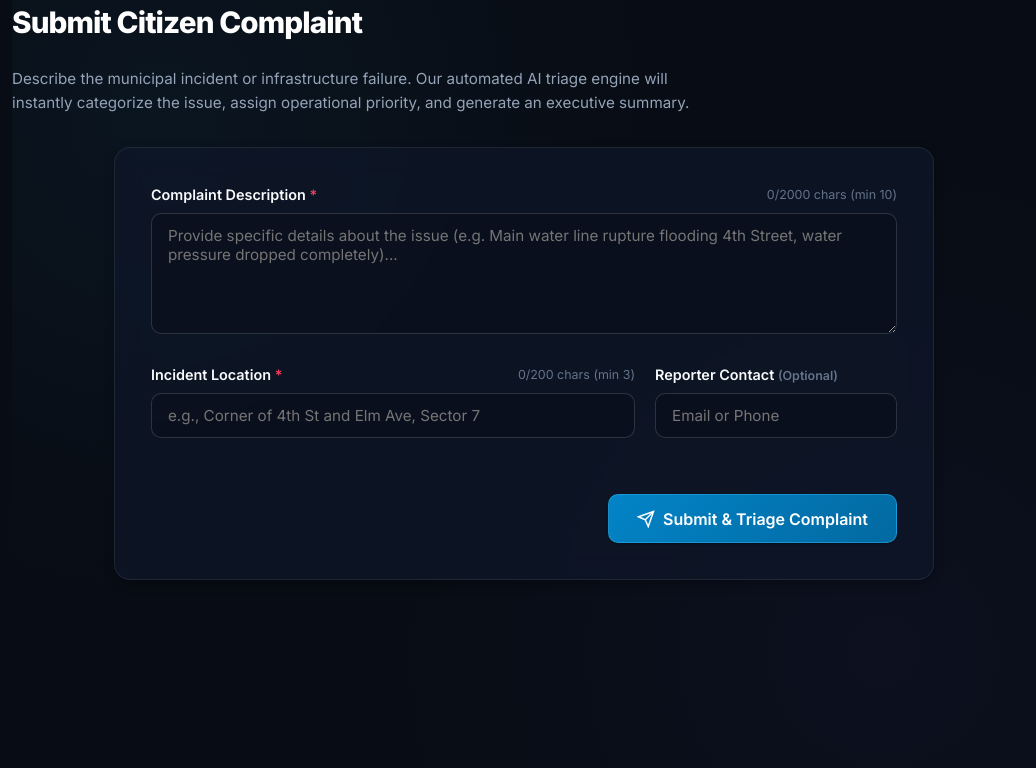
Test: SubmitPage Component › handles 429 Rate Limit with Retry-After header countdown
Replace the text in the text box labelled "Complaint Description *" with "A valid complaint text that exceeds ten chars" at (524, 274), box [151, 213, 897, 334]
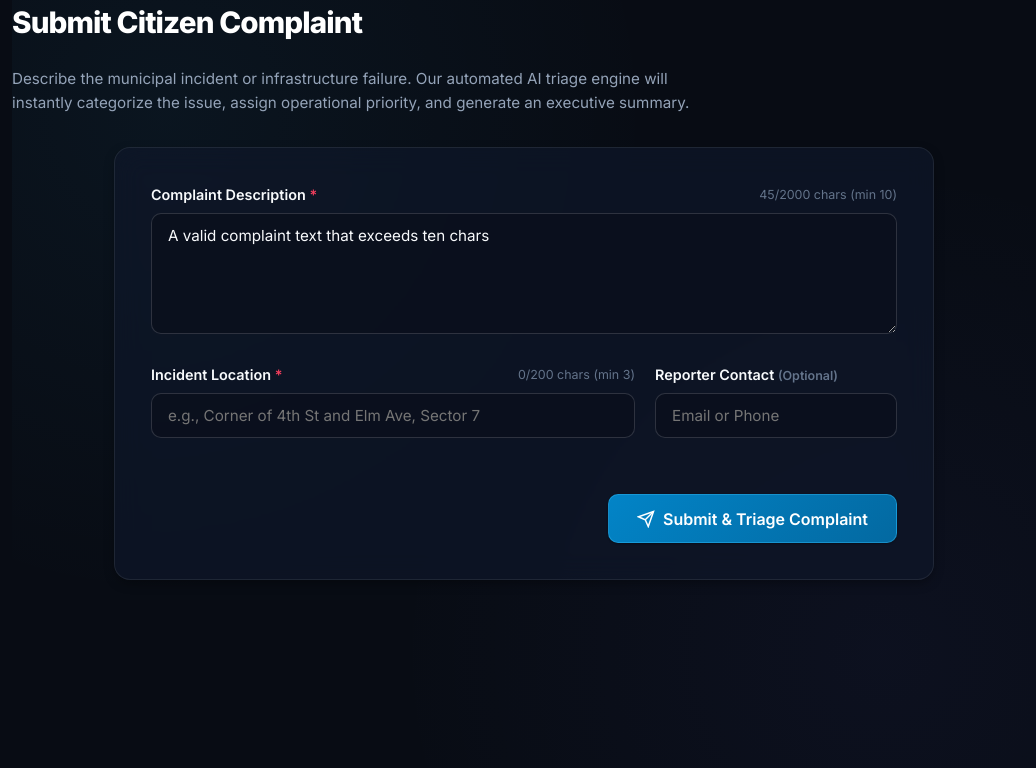
Type "Central Plaza" into the field labelled "Incident Location *" at (393, 416), box [151, 393, 635, 438]
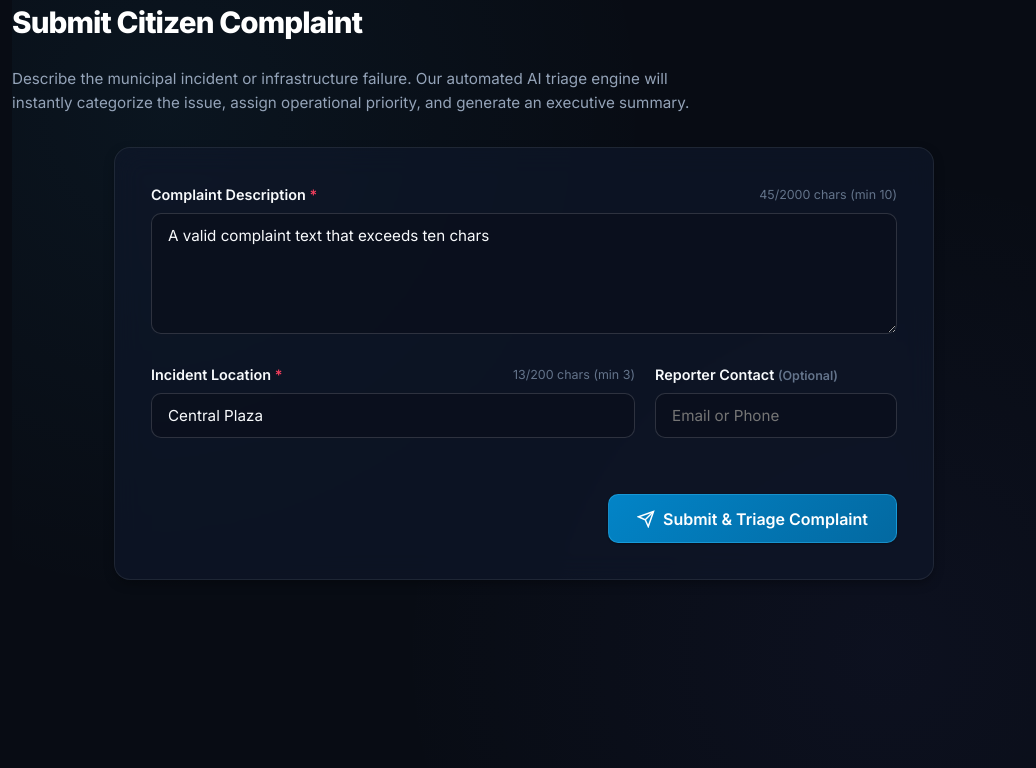
Click the button "Submit & Triage Complaint" at (752, 519), box [608, 494, 897, 543]
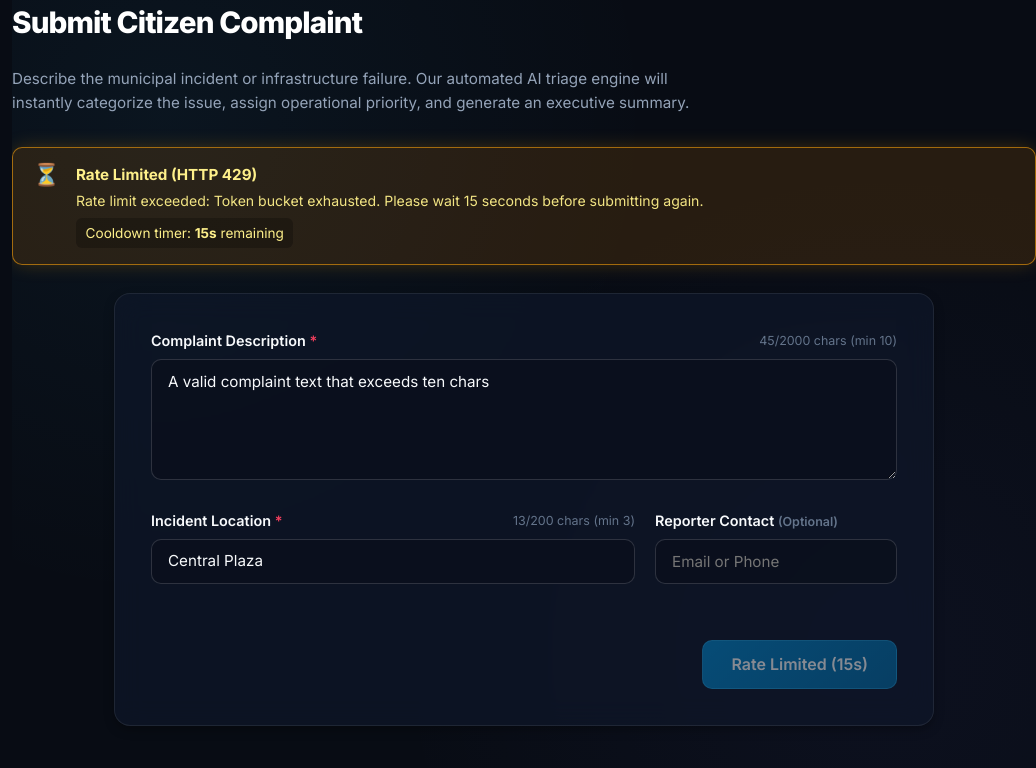
Result: the message is shown at [12, 147, 1035, 265]
Result: the heading "Rate Limited (HTTP 429)" is shown at [76, 165, 257, 184]
Result: the text "Rate limit exceeded: Token bucket exhausted" is shown at [76, 192, 704, 209]
